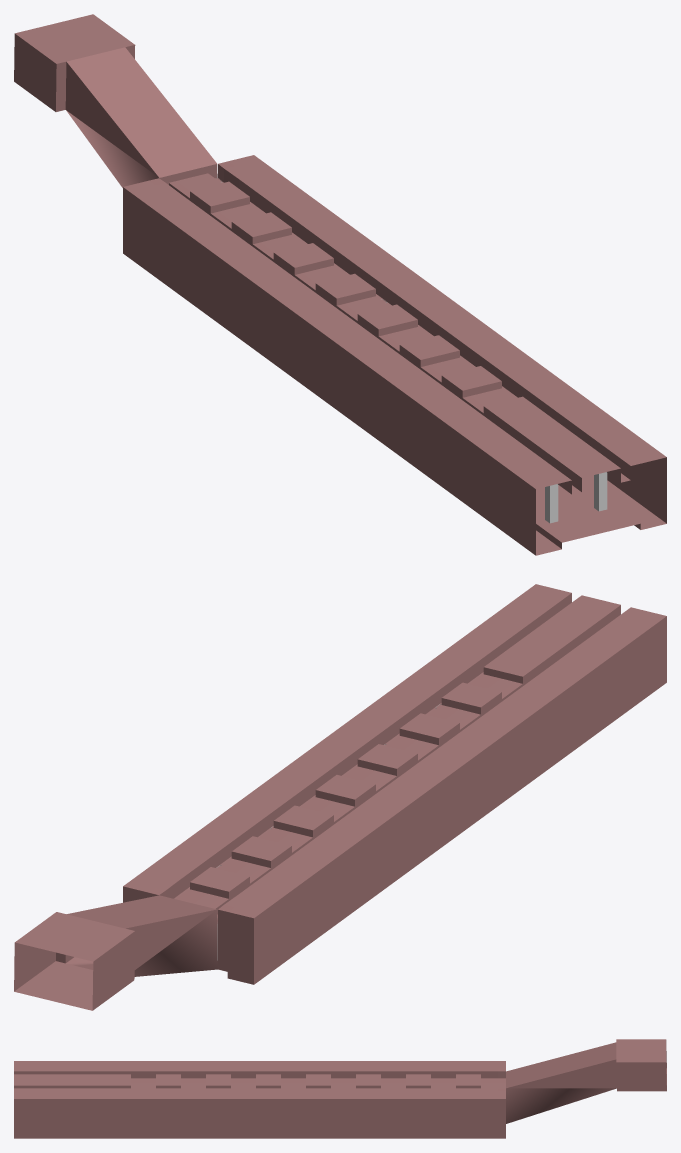
Rendered from Metro.fbx.
The picture shows the model from 3 angles, top to bottom: view 1: azimuth 30°, elevation 25°; view 2: azimuth 150°, elevation 25°; view 3: azimuth 270°, elevation 25°; orthographic projection. The views are drawn at different scales.
Parts seen in each view (by area): view 1: Station, Colon7; view 2: Station; view 3: Station.
Part boxes in pixels (bbox=[...]): Station: bbox=[14, 14, 666, 555]; Colon7: bbox=[545, 472, 607, 523]; Station: bbox=[14, 584, 666, 1010]; Station: bbox=[14, 1039, 666, 1138].
Size of the model in its own units: 1.38 by 1.16 by 9.97.
